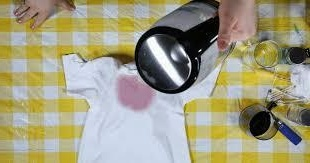wine: (113, 75, 152, 112)
